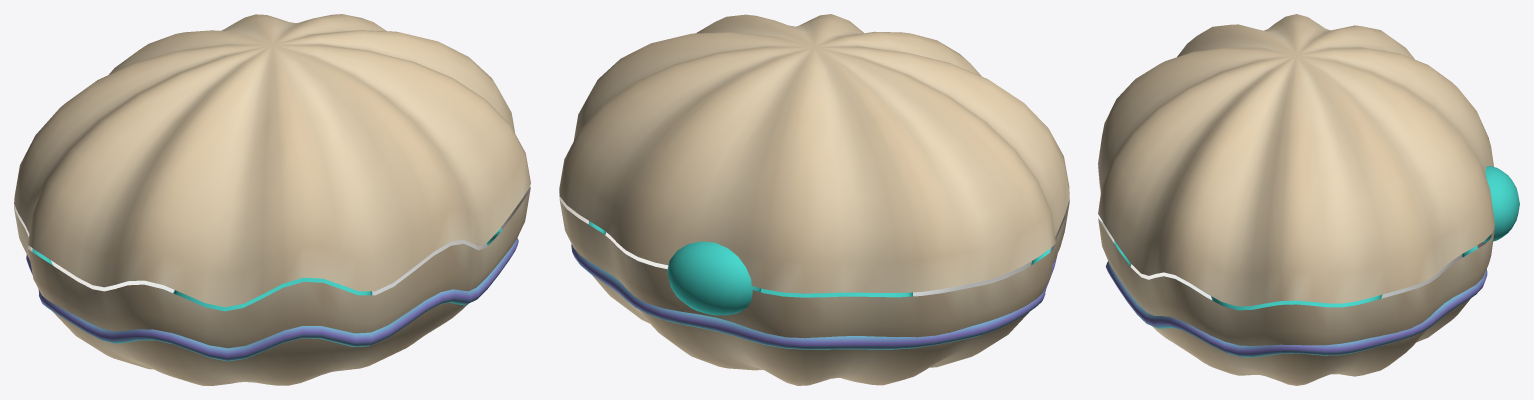
The model's file is almeja.glb.
The picture shows the model from 3 angles, left to right: view 1: azimuth 30°, elevation 25°; view 2: azimuth 150°, elevation 25°; view 3: azimuth 270°, elevation 25°; orthographic projection. The views are drawn at different scales.
Visible parts, largest first — view 1: Valva upper, Valva lower, Manto ondulado, Nácar lower; view 2: Valva upper, Valva lower, Manto ondulado, Nácar lower; view 3: Valva upper, Valva lower, Manto ondulado, Nácar lower.
Part boxes in pixels (left/top/right/bottom): Valva upper: left=14, top=14, right=530, bottom=307; Valva lower: left=14, top=191, right=530, bottom=385; Manto ondulado: left=26, top=228, right=518, bottom=361; Nácar lower: left=14, top=187, right=530, bottom=295; Valva upper: left=559, top=14, right=1069, bottom=293; Valva lower: left=560, top=201, right=1069, bottom=385; Manto ondulado: left=571, top=221, right=1057, bottom=349; Nácar lower: left=559, top=193, right=1069, bottom=296; Valva upper: left=1098, top=14, right=1494, bottom=306; Valva lower: left=1098, top=191, right=1494, bottom=385; Manto ondulado: left=1105, top=166, right=1519, bottom=357; Nácar lower: left=1098, top=167, right=1494, bottom=299.
Bounding box in the file's own units: 3.42 × 2.14 × 2.8.
